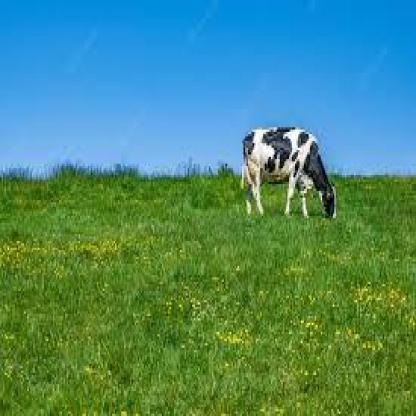cow: (242, 129, 336, 217)
